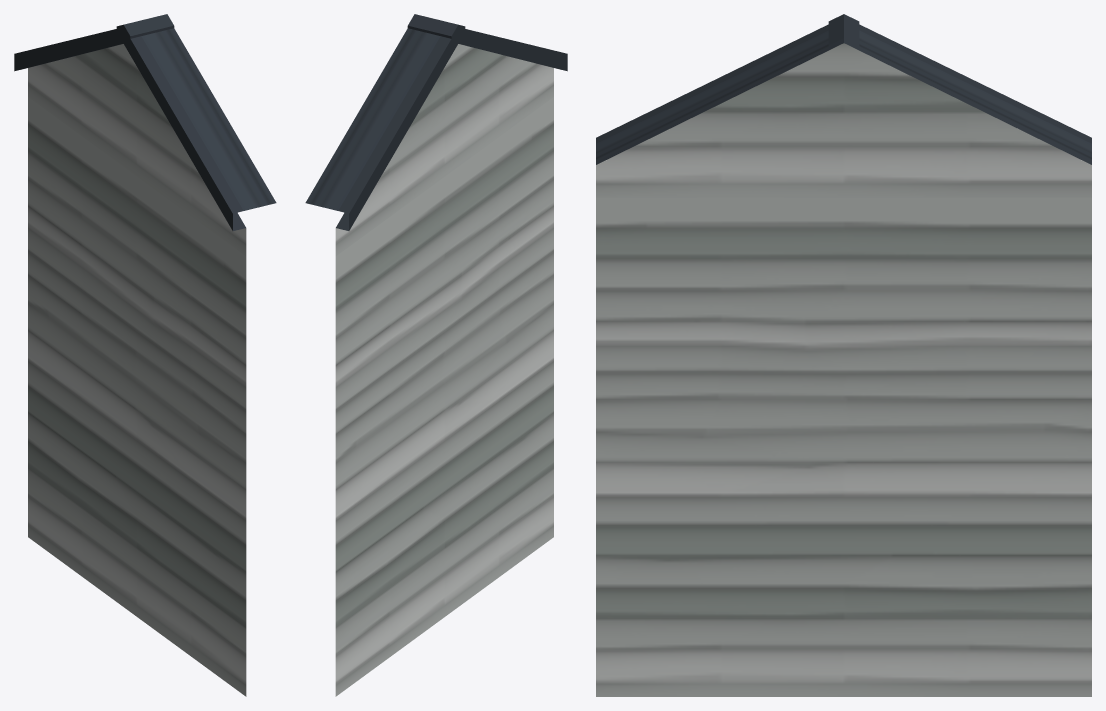
Rendered from SM_Bld_House_Roof_EndCap_TopLong_01.fbx.
3 renders of one model, left to right at view 1: azimuth 30°, elevation 25°; view 2: azimuth 150°, elevation 25°; view 3: azimuth 270°, elevation 25°, orthographic. The views are drawn at different scales.
Parts seen in each view (by area): view 1: SM_Bld_House_Roof_EndCap_TopLong_01; view 2: SM_Bld_House_Roof_EndCap_TopLong_01; view 3: SM_Bld_House_Roof_EndCap_TopLong_01.
Boxes of the visible parts, <box> form: SM_Bld_House_Roof_EndCap_TopLong_01: <box>14,14,276,696</box>; SM_Bld_House_Roof_EndCap_TopLong_01: <box>305,14,567,696</box>; SM_Bld_House_Roof_EndCap_TopLong_01: <box>596,14,1091,696</box>.
Bounding box in the file's own units: 28.91 × 376 × 250.
